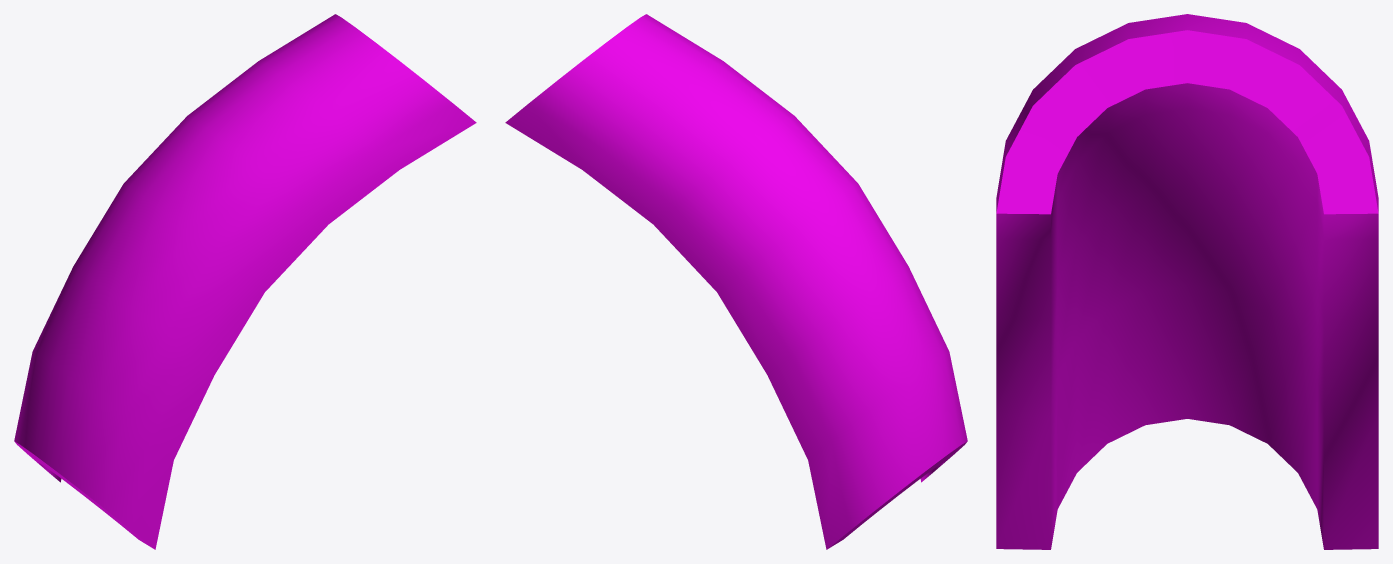
The model's file is Curved.fbx.
3 renders of one model, left to right at view 1: azimuth 30°, elevation 25°; view 2: azimuth 150°, elevation 25°; view 3: azimuth 270°, elevation 25°, orthographic. The views are drawn at different scales.
Visible parts, largest first — view 1: pPipe1; view 2: pPipe1; view 3: pPipe1.
Boxes of the visible parts, <box> form: pPipe1: <box>14,14,476,549</box>; pPipe1: <box>505,14,967,549</box>; pPipe1: <box>996,14,1378,549</box>.
Size of the model in its own units: 28.3 by 29.37 by 13.8.
